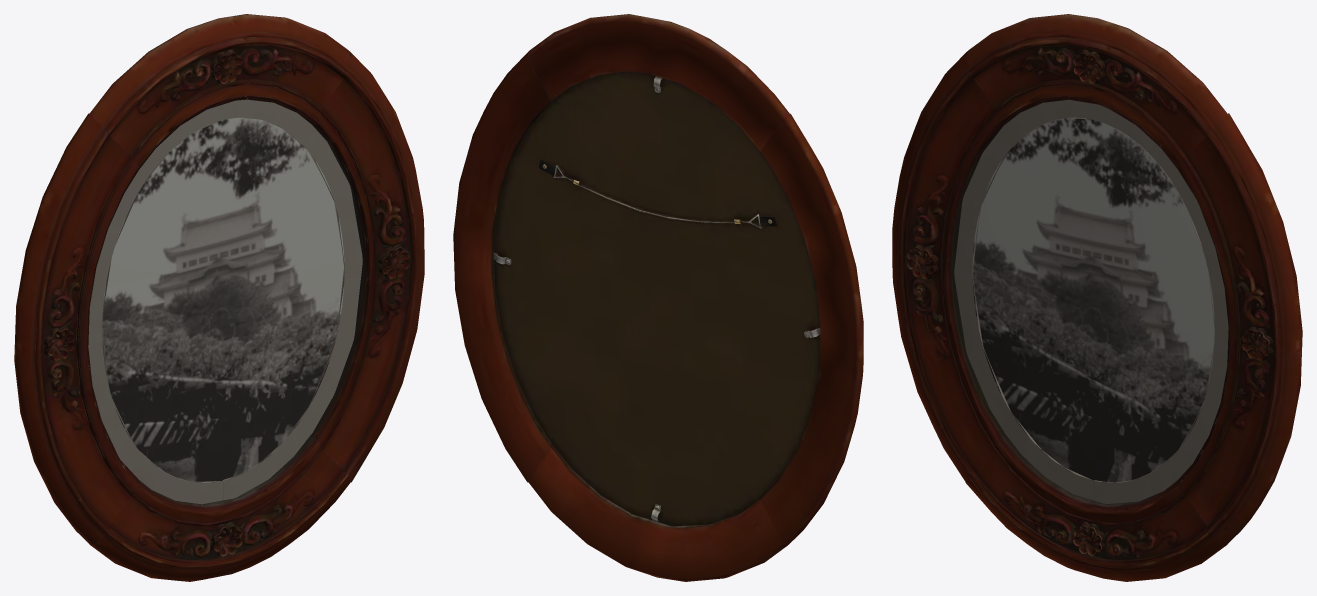
The model's file is hanging_picture_frame_03.glb.
3 renders of one model, left to right at view 1: azimuth 30°, elevation 25°; view 2: azimuth 150°, elevation 25°; view 3: azimuth 330°, elevation 25°, orthographic.
Parts seen in each view (by area): view 1: hanging_picture_frame_03, hanging_picture_frame_03_glass; view 2: hanging_picture_frame_03; view 3: hanging_picture_frame_03, hanging_picture_frame_03_glass.
Boxes of the visible parts, x1,y1,x2,y2 form: hanging_picture_frame_03: (14,14,424,581); hanging_picture_frame_03_glass: (88,100,364,505); hanging_picture_frame_03: (453,14,863,581); hanging_picture_frame_03: (892,14,1302,581); hanging_picture_frame_03_glass: (952,100,1228,505).
Size of the model in its own units: 0.3852 by 0.5031 by 0.0318.
Materials: 3 (2 with a texture image).
